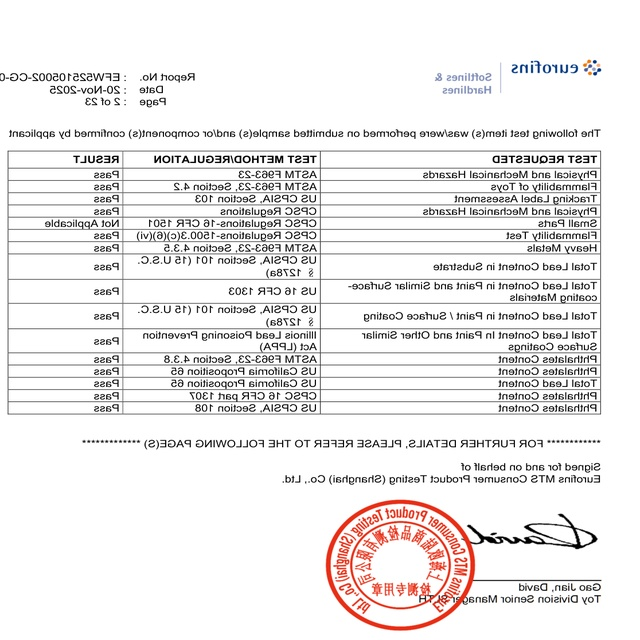eurofins: (504, 55, 605, 85)
